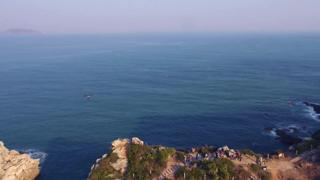UAV: (84, 94, 94, 99)
